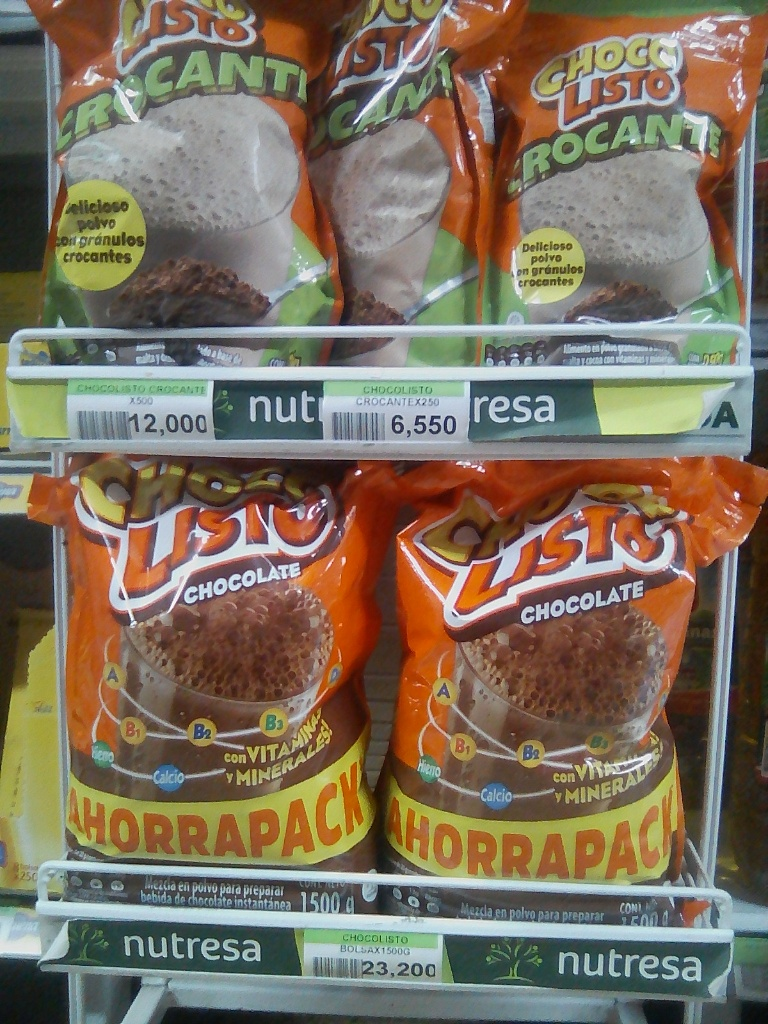COL0170102DYP25000: (483, 2, 763, 370)
COL0170102DYP50000: (35, 0, 333, 375)
COL0170103DYP1,500: (371, 457, 763, 929)
